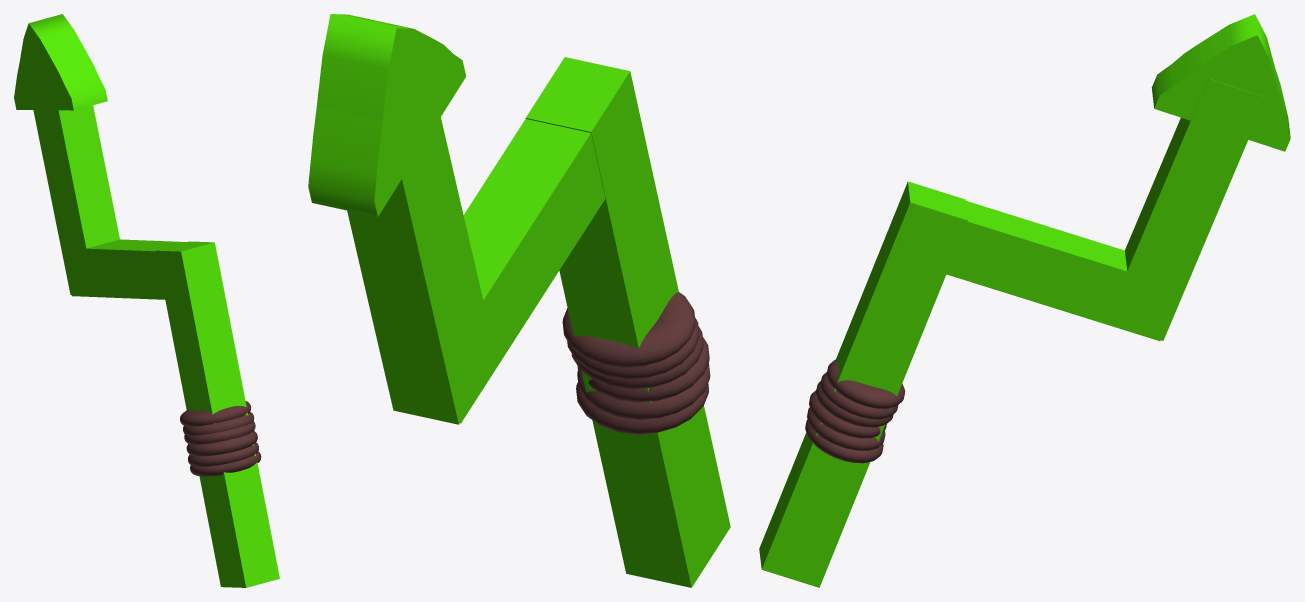
File: Sword.fbx
The picture shows the model from 3 angles, left to right: view 1: azimuth 30°, elevation 25°; view 2: azimuth 150°, elevation 25°; view 3: azimuth 270°, elevation 25°; orthographic projection. The views are drawn at different scales.
Parts seen in each view (by area): view 1: pCube15; view 2: pCube15; view 3: pCube15.
Part boxes in pixels (bbox=[...]): pCube15: bbox=[14, 14, 279, 587]; pCube15: bbox=[308, 14, 730, 587]; pCube15: bbox=[759, 14, 1290, 587].
Size of the model in its own units: 1.55 by 9.72 by 8.61.
